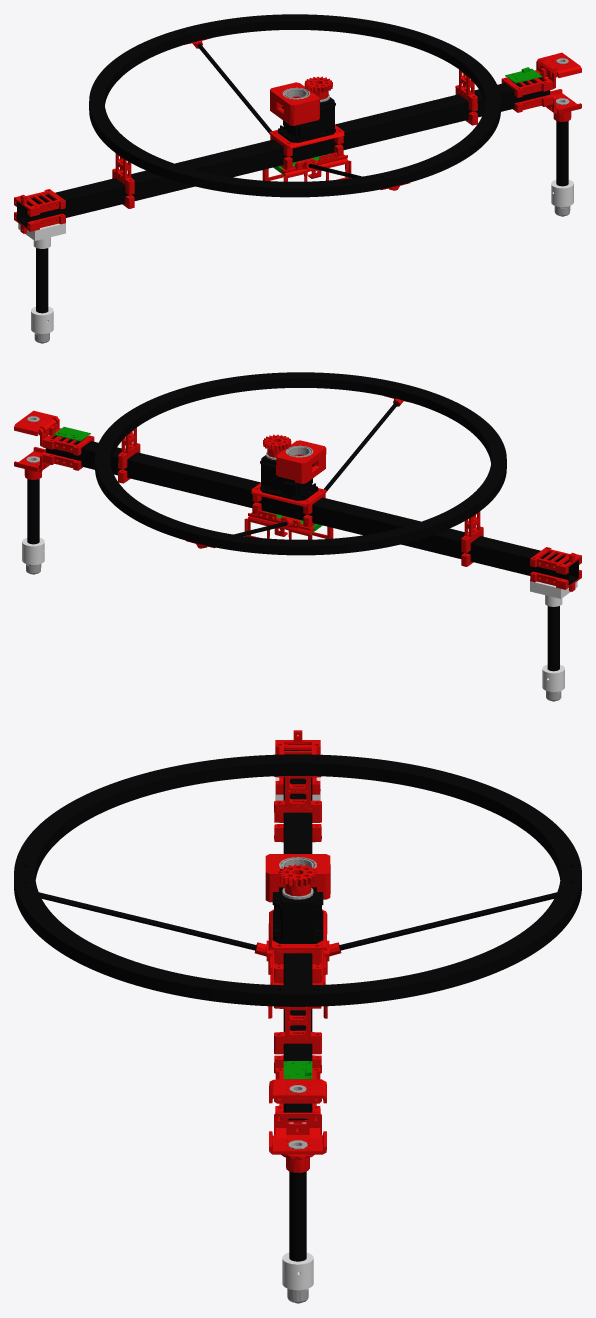
Rendered from end_link1.dae.
3 views of the same model, one above another, from view 1: azimuth 30°, elevation 25°; view 2: azimuth 150°, elevation 25°; view 3: azimuth 270°, elevation 25° (orthographic). The views are drawn at different scales.
Parts seen in each view (by area): view 1: Black, Red, White, Silver, Green; view 2: Black, Red, White, Silver, Green; view 3: Black, Red, White, Silver.
Boxes of the visible parts, x1=… form: Black: x1=17, y1=14, x2=568, y2=313; Red: x1=14, y1=38, x2=581, y2=233; White: x1=18, y1=180, x2=573, y2=333; Silver: x1=34, y1=58, x2=570, y2=343; Green: x1=273, y1=67, x2=542, y2=175; Black: x1=27, y1=372, x2=578, y2=671; Red: x1=14, y1=396, x2=581, y2=591; White: x1=22, y1=538, x2=577, y2=691; Silver: x1=26, y1=416, x2=561, y2=701; Green: x1=53, y1=426, x2=322, y2=533; Black: x1=14, y1=744, x2=581, y2=1261; Red: x1=254, y1=730, x2=341, y2=1172; White: x1=275, y1=777, x2=320, y2=1290; Silver: x1=279, y1=857, x2=316, y2=1303.
Bounding box in the file's own units: 0.6191 × 0.4 × 0.2072.
